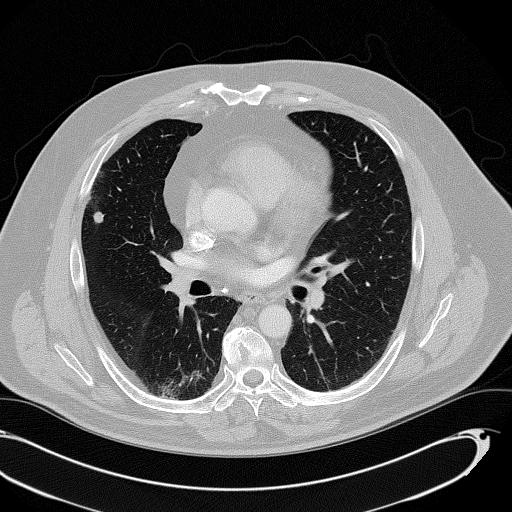nodule: (91, 210, 106, 225)
